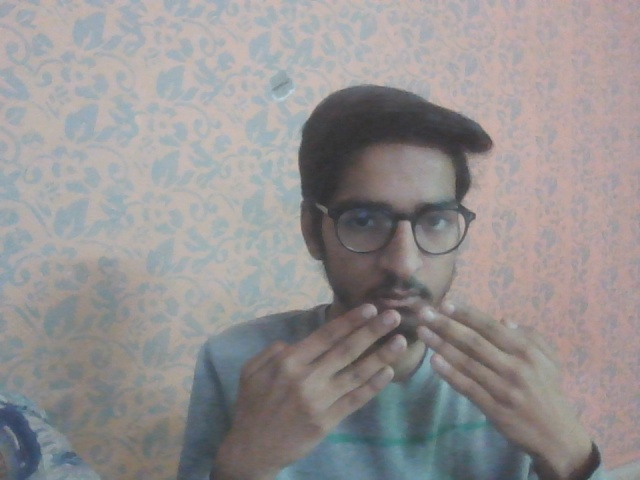ThankYou: (219, 299, 587, 474)
